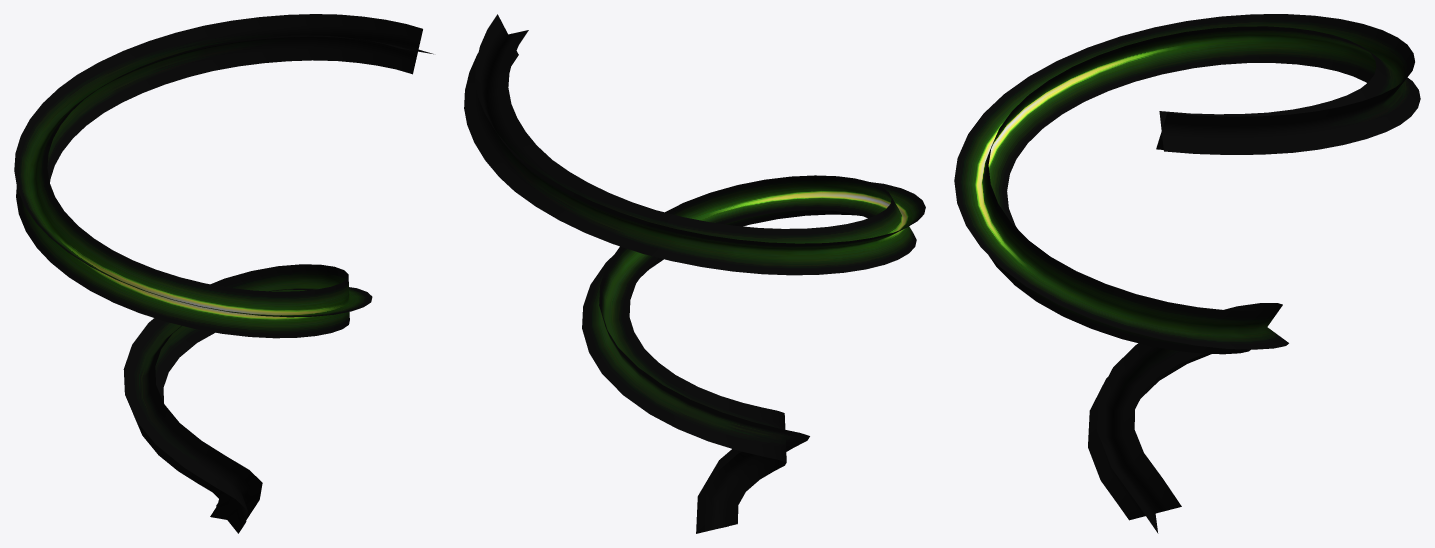
The model's file is 0093_M_luoxuan.glb.
3 renders of one model, left to right at view 1: azimuth 30°, elevation 25°; view 2: azimuth 150°, elevation 25°; view 3: azimuth 270°, elevation 25°, orthographic. The views are drawn at different scales.
Size of the model in its own units: 2.01 by 2.2 by 1.77.
1 material, 1 textured.
